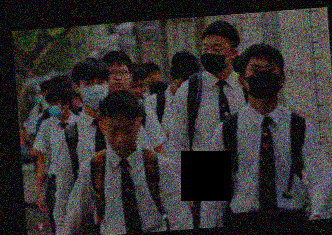with_mask: (245, 60, 281, 100), (199, 39, 231, 75), (79, 76, 109, 109), (47, 100, 62, 119)
without_mask: (103, 121, 138, 155), (107, 65, 129, 91), (130, 79, 147, 99), (144, 69, 162, 86)
